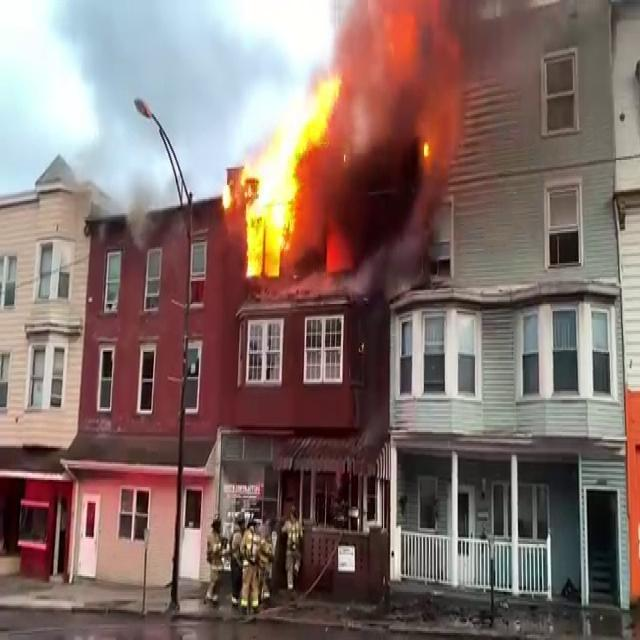Fire: (224, 50, 346, 281)
Smoke: (297, 1, 475, 275)
